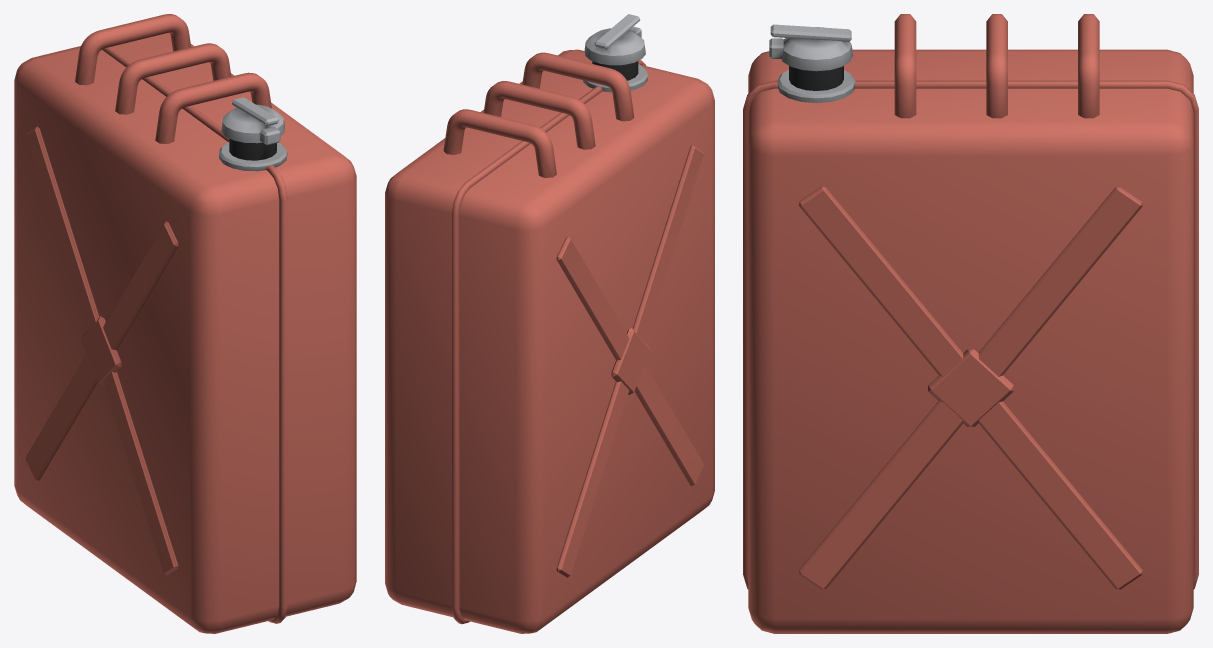
The model's file is jerrycan.glb.
3 views of the same model, side by side, from view 1: azimuth 30°, elevation 25°; view 2: azimuth 150°, elevation 25°; view 3: azimuth 270°, elevation 25° (orthographic). The views are drawn at different scales.
Visible parts, largest first — view 1: PART; view 2: PART; view 3: PART.
Boxes of the visible parts, <box> form: PART: <box>14,14,356,633</box>; PART: <box>385,14,714,633</box>; PART: <box>743,14,1198,633</box>.
Size of the model in its own units: 0.1755 by 0.484 by 0.3479.
